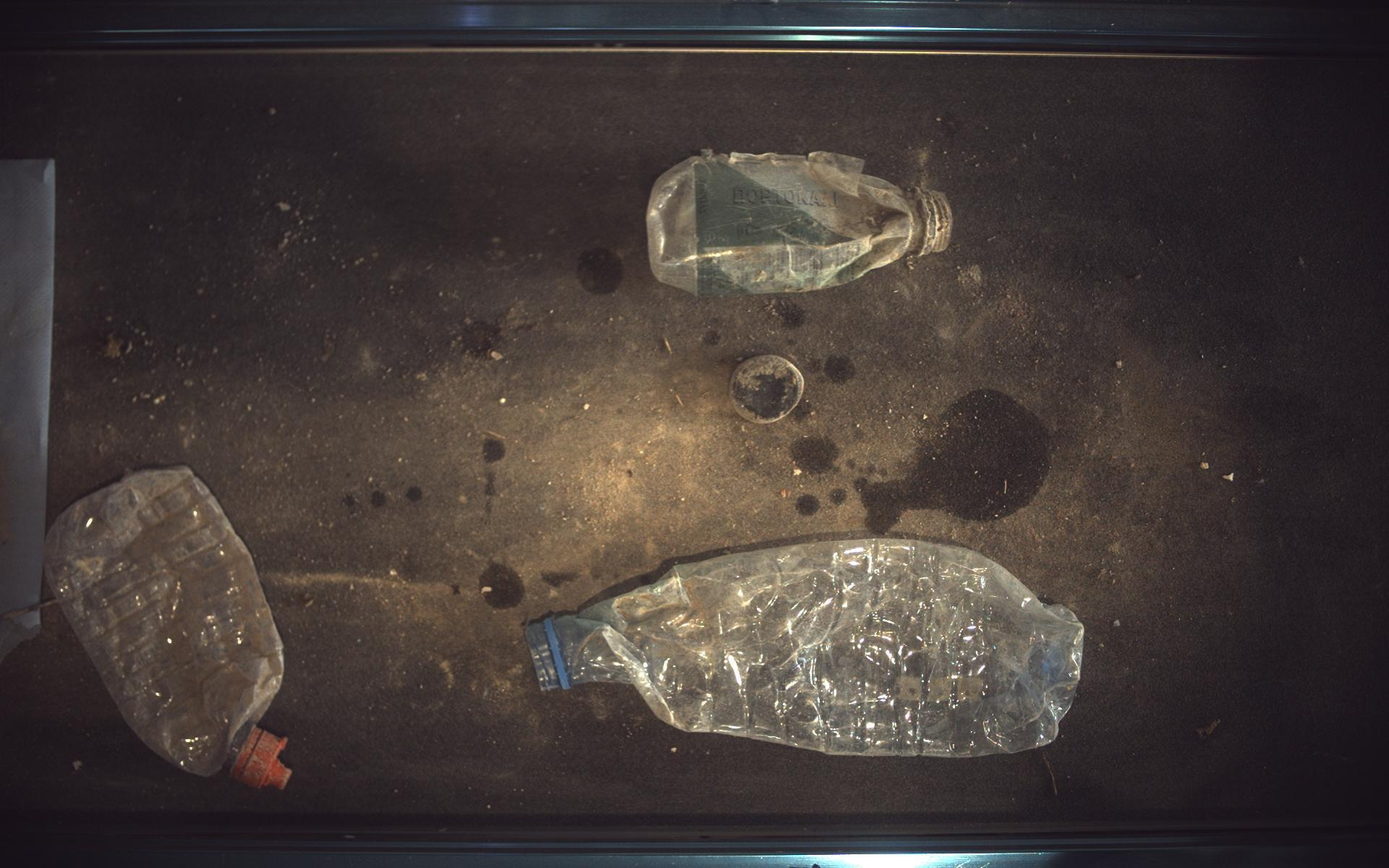general_w: (527, 538, 1086, 758), (647, 149, 954, 295), (731, 354, 806, 425)
